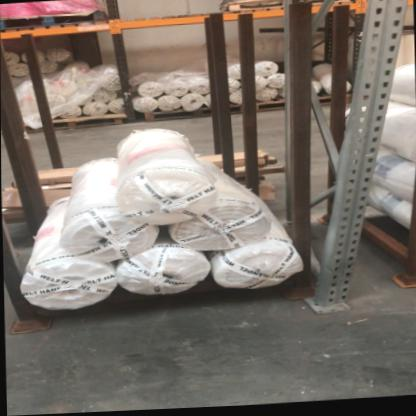vertical_damage: (307, 273, 360, 322)
